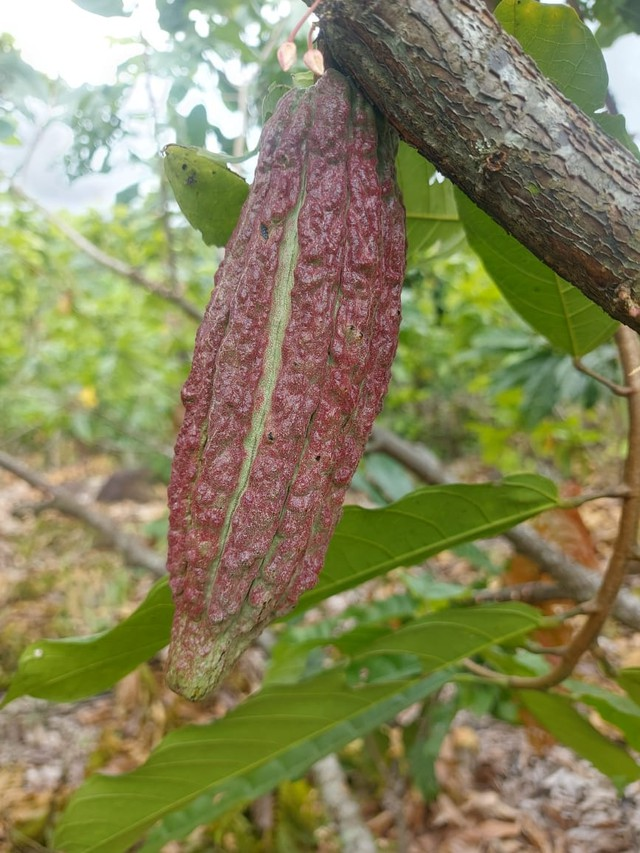Health: (158, 62, 413, 711)
